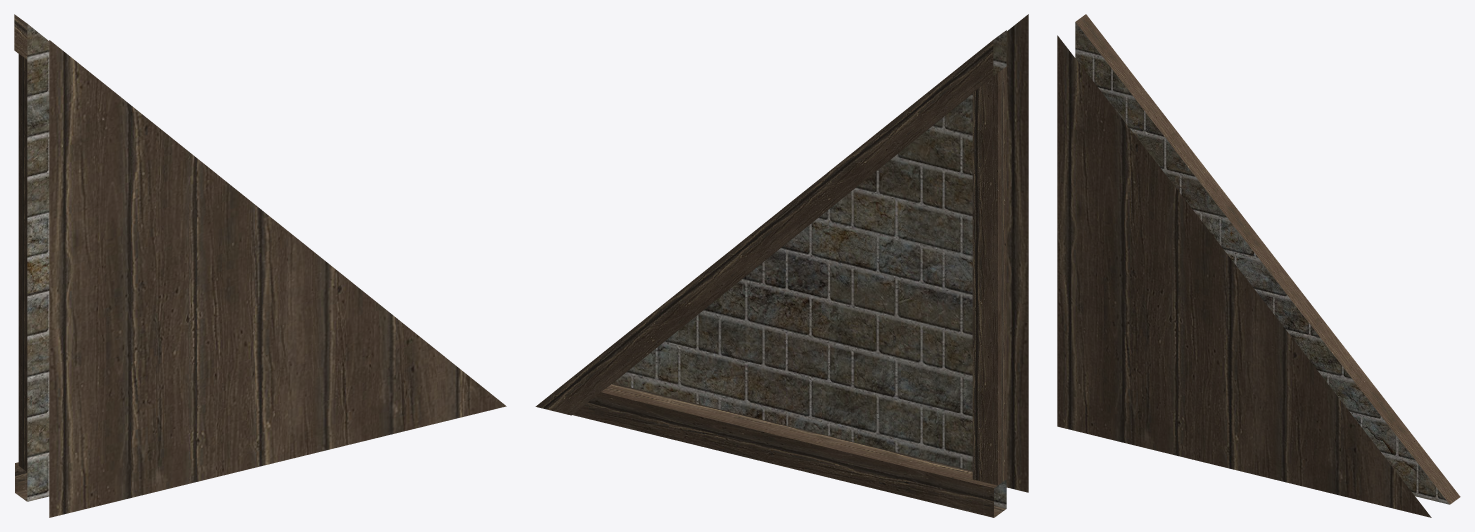
The model's file is ARC1010229.fbx.
3 views of the same model, side by side, from view 1: azimuth 30°, elevation 25°; view 2: azimuth 150°, elevation 25°; view 3: azimuth 330°, elevation 25° (orthographic). The views are drawn at different scales.
Parts seen in each view (by area): view 1: smARC1010229; view 2: smARC1010229; view 3: smARC1010229.
Boxes of the visible parts, <box> form: smARC1010229: <box>14,14,506,517</box>; smARC1010229: <box>535,14,1028,517</box>; smARC1010229: <box>1057,14,1460,517</box>.
Bounding box in the file's own units: 268 × 268 × 35.62.
1 material, 1 textured.
